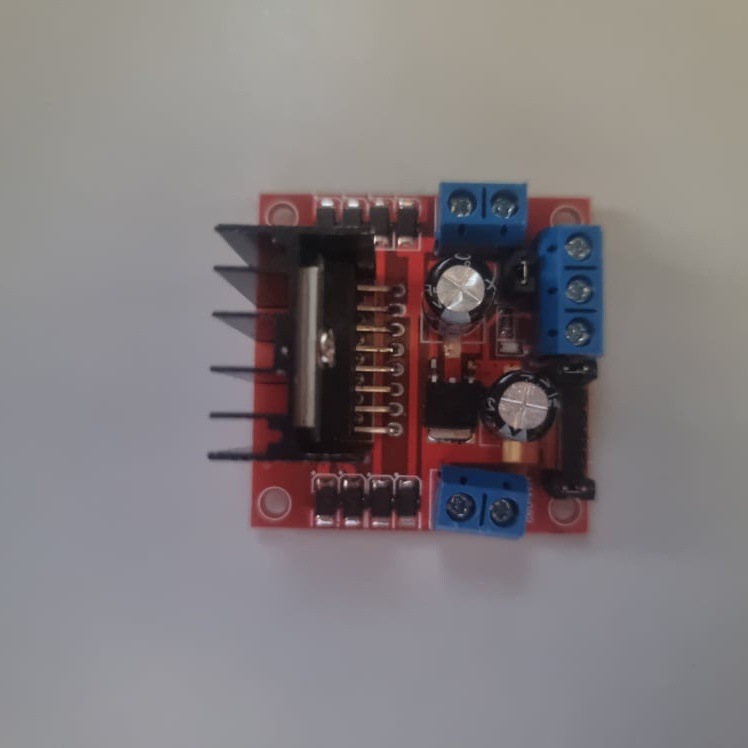MOTOR: (203, 179, 606, 545)
